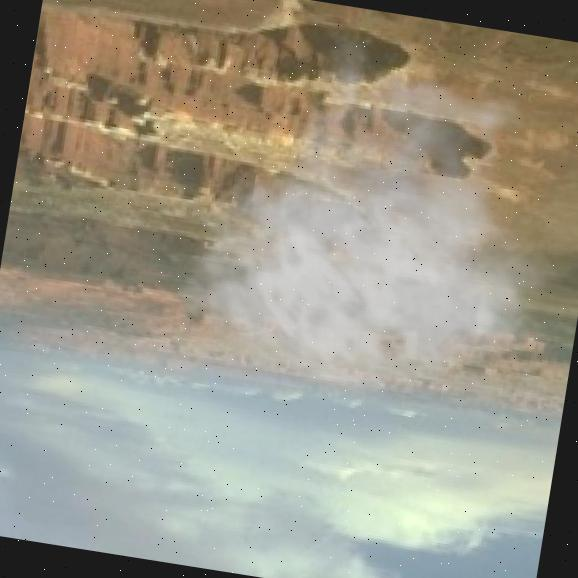smoke: (165, 13, 578, 425)
